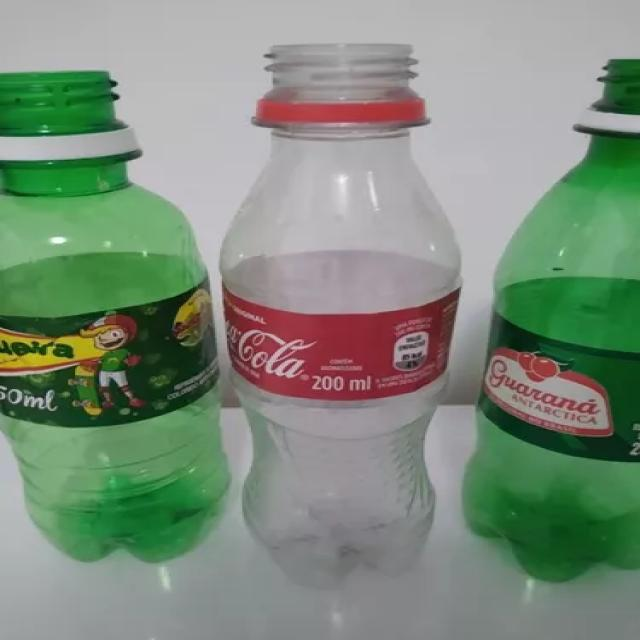bottle: (220, 46, 460, 579), (0, 72, 230, 561), (463, 60, 638, 579)
